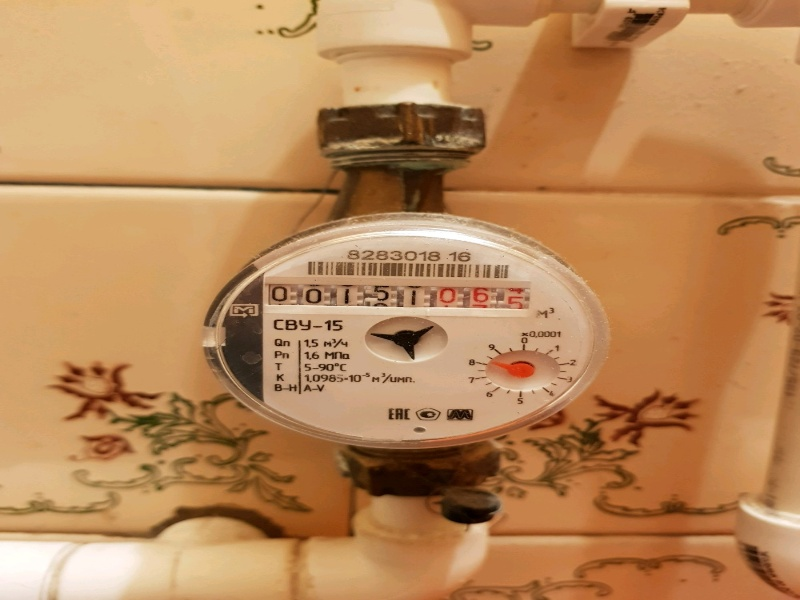meter: (258, 279, 531, 315)
